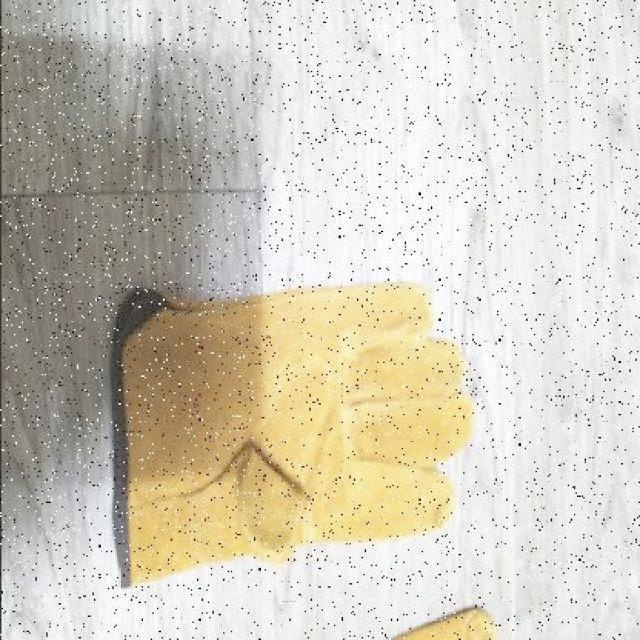Guantes: (112, 280, 475, 588)
